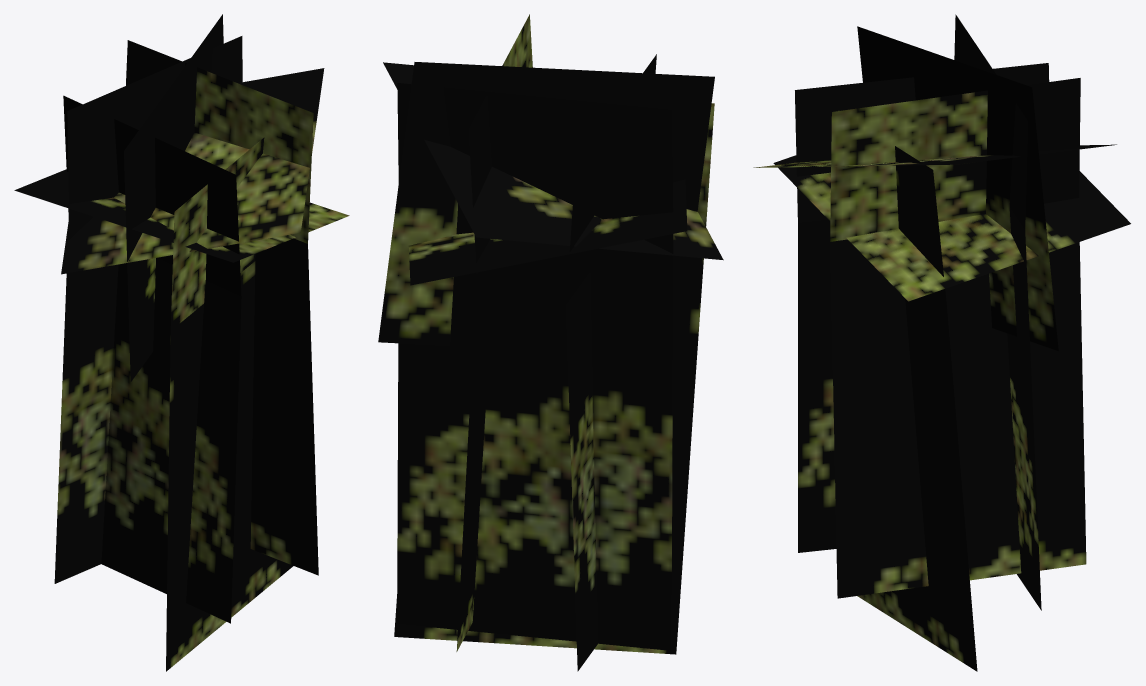
Rendered from birch_leaves_yellowish_slab_upper.obj.
3 renders of one model, left to right at view 1: azimuth 30°, elevation 25°; view 2: azimuth 150°, elevation 25°; view 3: azimuth 270°, elevation 25°, orthographic. The views are drawn at different scales.
Visible parts, largest first — view 1: south, north, east, west, top, bottom; view 2: east, south, north, top, west, bottom; view 3: south, west, north, bottom, east, top.
Part boxes in pixels (box(x1,y1,x2,y2)): south: box(124, 14, 318, 575); north: box(63, 95, 241, 623); east: box(54, 36, 242, 583); west: box(166, 137, 293, 671); top: box(61, 68, 324, 274); bottom: box(14, 169, 349, 262); east: box(397, 83, 673, 650); south: box(378, 14, 714, 651); north: box(566, 54, 656, 671); top: box(383, 62, 723, 260); west: box(394, 103, 714, 654); bottom: box(408, 180, 687, 285); south: box(830, 26, 1086, 598); west: box(838, 110, 977, 671); north: box(795, 63, 1049, 552); bottom: box(773, 155, 1130, 301); east: box(954, 14, 1041, 610); top: box(753, 144, 1116, 167).
Size of the model in its own units: 2.01 by 3.66 by 2.18.
